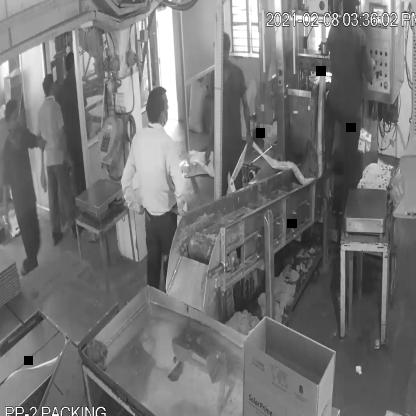no_glove: (236, 77, 258, 167), (123, 141, 144, 218), (202, 99, 222, 174), (167, 150, 186, 214), (54, 116, 73, 173), (0, 172, 17, 235), (32, 126, 49, 160)
